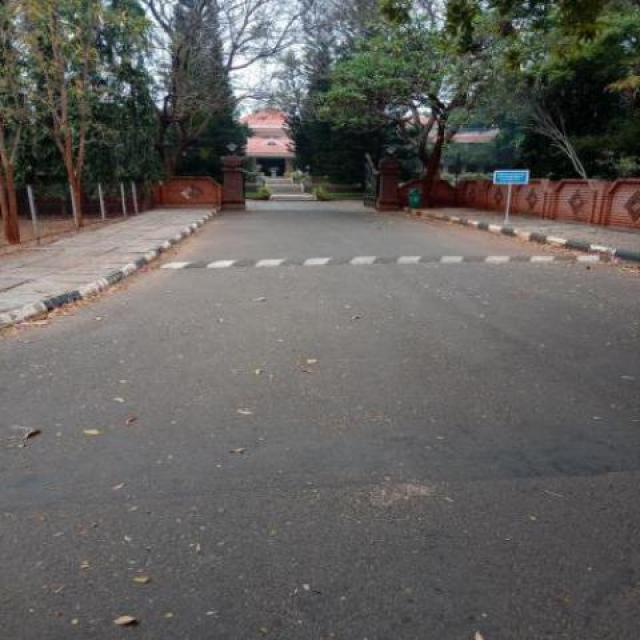Speed Bump: (154, 253, 614, 271)
